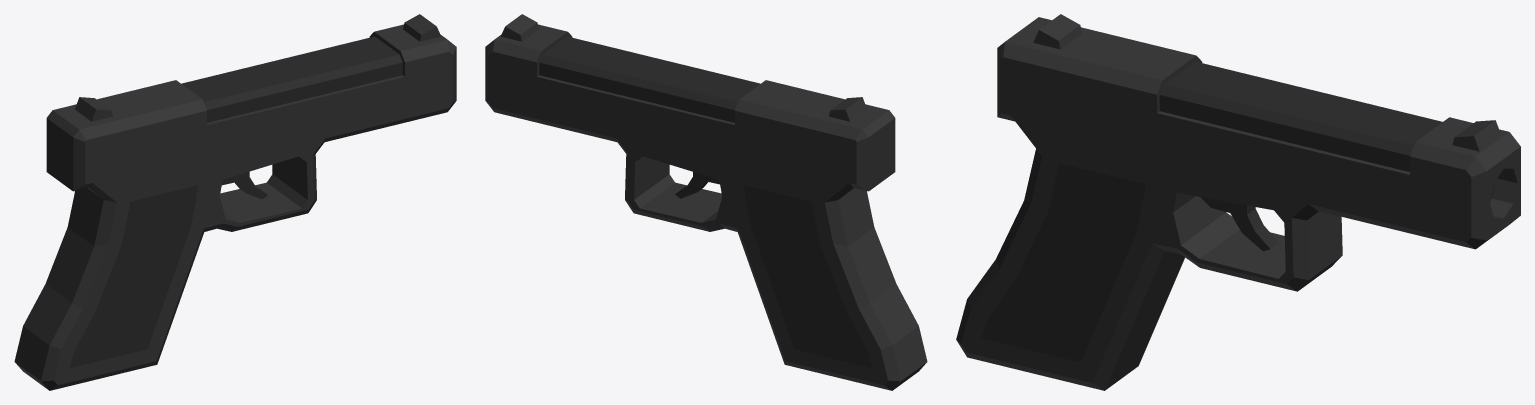
File: SM_Props_Interior_Shop_Gun_HandGun.fbx
The picture shows the model from 3 angles, left to right: view 1: azimuth 30°, elevation 25°; view 2: azimuth 150°, elevation 25°; view 3: azimuth 330°, elevation 25°; orthographic projection. The views are drawn at different scales.
Parts seen in each view (by area): view 1: SM_Props_Interior_Shop_Gun_HandGun; view 2: SM_Props_Interior_Shop_Gun_HandGun; view 3: SM_Props_Interior_Shop_Gun_HandGun.
Part boxes in pixels (x1,y1,x2,y2): SM_Props_Interior_Shop_Gun_HandGun: (14, 14, 456, 390); SM_Props_Interior_Shop_Gun_HandGun: (485, 14, 927, 390); SM_Props_Interior_Shop_Gun_HandGun: (956, 14, 1520, 390).
Size of the model in its own units: 26.82 by 16.38 by 3.96.
